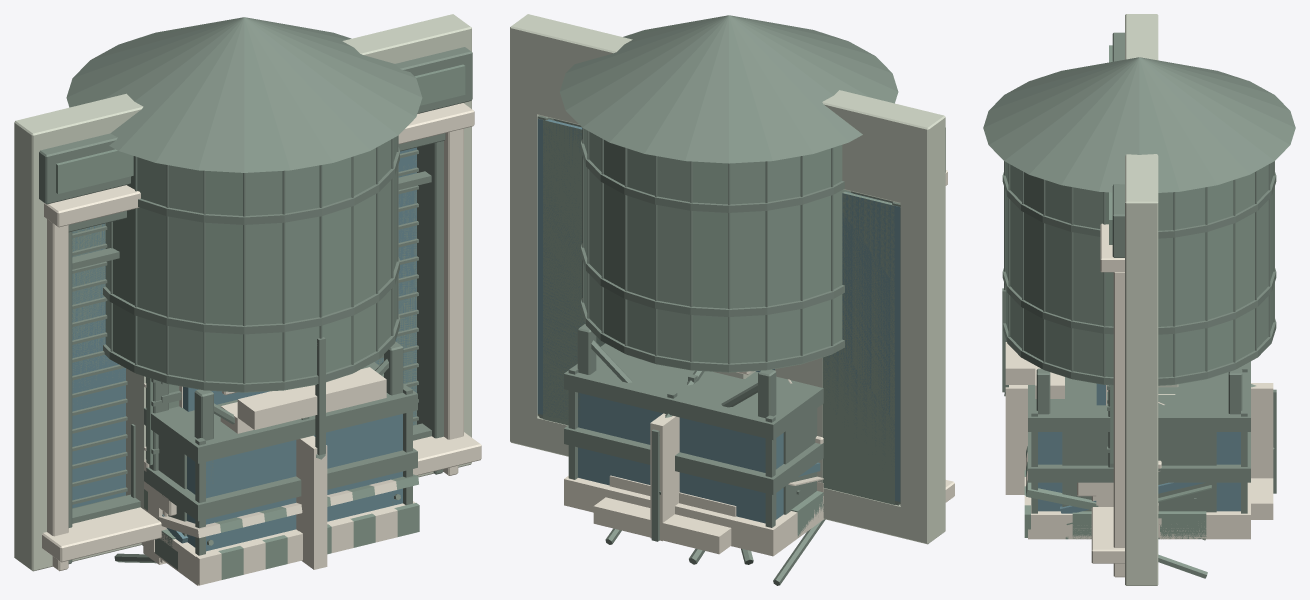
Rendered from kit.glb.
3 views of the same model, side by side, from view 1: azimuth 30°, elevation 25°; view 2: azimuth 150°, elevation 25°; view 3: azimuth 270°, elevation 25° (orthographic). The views are drawn at different scales.
Parts seen in each view (by area): view 1: timber tank.002, conical tank roof.002, brick pier.050, recessed leaf.025, glazed lantern, reveal.059, lantern cap, brick pier.058, sill.088, lantern cap.001, header.029, tread.044 (+42 smaller); view 2: timber tank.002, conical tank roof.002, recessed leaf.029, recessed leaf.025, brick pier.058, brick pier.059, lantern cap, glazed lantern, brick pier.050, header.025, header.029, lantern cap.001 (+20 smaller); view 3: timber tank.002, conical tank roof.002, brick pier.051, lantern cap, brick pier.059, plant housing, closed stair cheek.006, lantern cap.001, stone jamb.051, glazed lantern, header.029, iron hoop.009 (+29 smaller).
Part boxes in pixels (left/top/right/bottom): timber tank.002: left=105, top=136, right=396, bottom=392; conical tank roof.002: left=66, top=17, right=422, bottom=172; brick pier.050: left=14, top=115, right=55, bottom=570; recessed leaf.025: left=72, top=147, right=416, bottom=508; glazed lantern: left=187, top=414, right=402, bottom=551; reveal.059: left=417, top=141, right=443, bottom=474; lantern cap: left=144, top=362, right=417, bottom=463; brick pier.058: left=14, top=114, right=61, bottom=571; sill.088: left=42, top=432, right=481, bottom=562; lantern cap.001: left=144, top=448, right=417, bottom=521; header.029: left=46, top=21, right=441, bottom=144; tread.044: left=237, top=367, right=386, bottom=429; timber tank.002: left=584, top=129, right=852, bottom=372; conical tank roof.002: left=560, top=15, right=898, bottom=163; recessed leaf.029: left=543, top=120, right=894, bottom=504; recessed leaf.025: left=537, top=118, right=900, bottom=501; brick pier.058: left=900, top=109, right=945, bottom=543; brick pier.059: left=510, top=14, right=553, bottom=448; lantern cap: left=564, top=343, right=823, bottom=440; glazed lantern: left=578, top=393, right=783, bottom=523; brick pier.050: left=906, top=111, right=945, bottom=544; header.025: left=534, top=20, right=917, bottom=203; header.029: left=539, top=21, right=915, bottom=201; lantern cap.001: left=564, top=425, right=823, bottom=494; timber tank.002: left=1005, top=162, right=1273, bottom=385; conical tank roof.002: left=983, top=57, right=1295, bottom=192; brick pier.051: left=1125, top=192, right=1158, bottom=585; lantern cap: left=1028, top=361, right=1250, bottom=431; brick pier.059: left=1125, top=189, right=1158, bottom=585; plant housing: left=1062, top=432, right=1216, bottom=512; closed stair cheek.006: left=1005, top=383, right=1273, bottom=494; lantern cap.001: left=1028, top=432, right=1250, bottom=482; stone jamb.051: left=1113, top=272, right=1124, bottom=547; glazed lantern: left=1038, top=432, right=1240, bottom=511; header.029: left=1125, top=27, right=1158, bottom=189; iron hoop.009: left=1002, top=268, right=1276, bottom=334.
Size of the model in its own units: 4 by 4.78 by 2.8.
